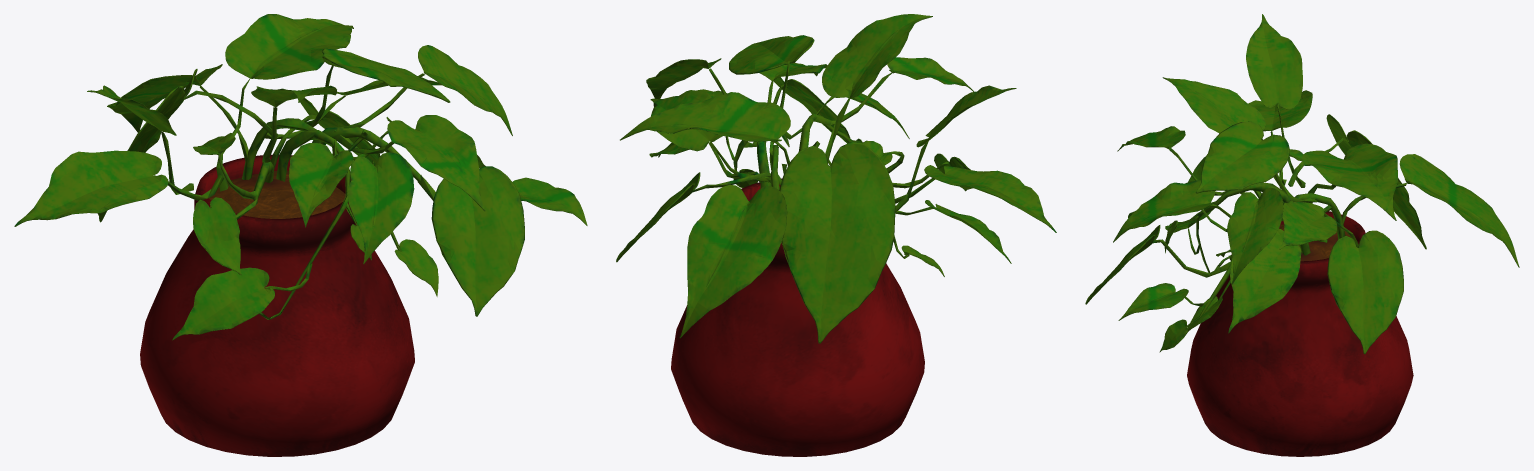
Rendered from Plantinha_1_NEC_CENA.fbx.
3 views of the same model, side by side, from view 1: azimuth 30°, elevation 25°; view 2: azimuth 150°, elevation 25°; view 3: azimuth 270°, elevation 25° (orthographic). The views are drawn at different scales.
Parts seen in each view (by area): view 1: Planta01; view 2: Planta01; view 3: Planta01.
Boxes of the visible parts, x1,y1,x2,y2 form: Planta01: (14, 14, 587, 456); Planta01: (616, 14, 1056, 456); Planta01: (1085, 14, 1519, 456).
Bounding box in the file's own units: 97.42 × 75.15 × 93.44.
Materials: 1 (1 with a texture image).
